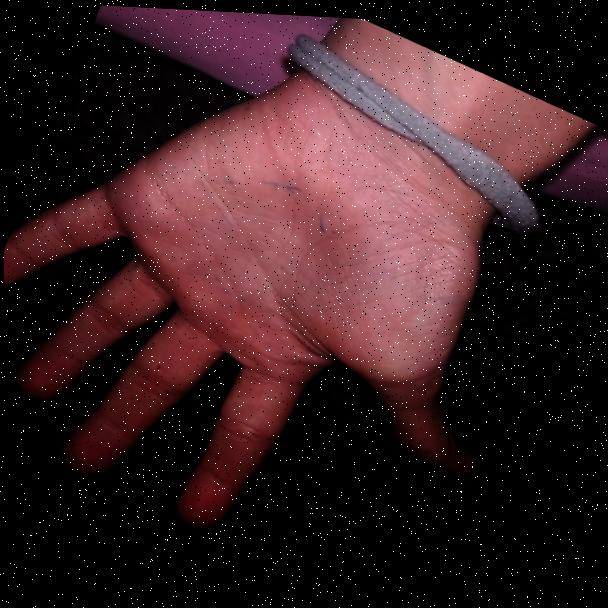five: (0, 1, 576, 608)
